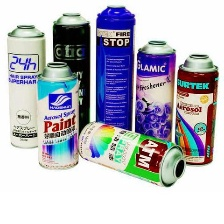aerosol_cans: (75, 118, 188, 193), (92, 4, 137, 147), (170, 45, 219, 170), (49, 8, 92, 147), (32, 58, 82, 173), (5, 21, 47, 150), (133, 34, 178, 153)
